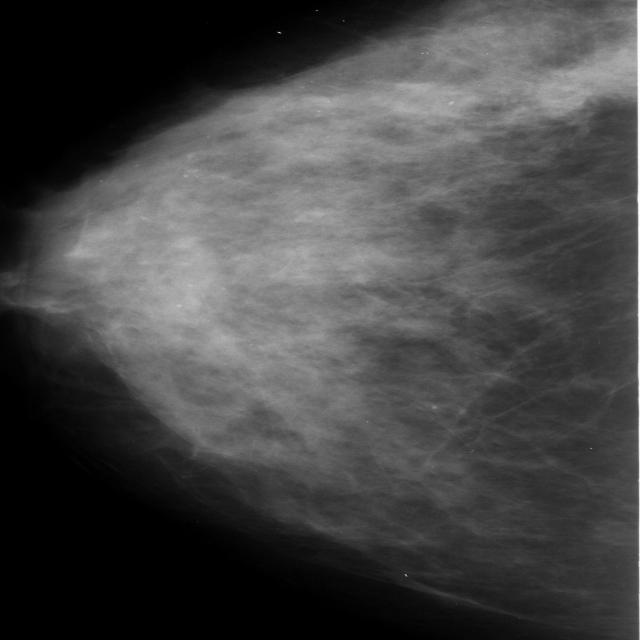normal: (10, 0, 640, 604)
